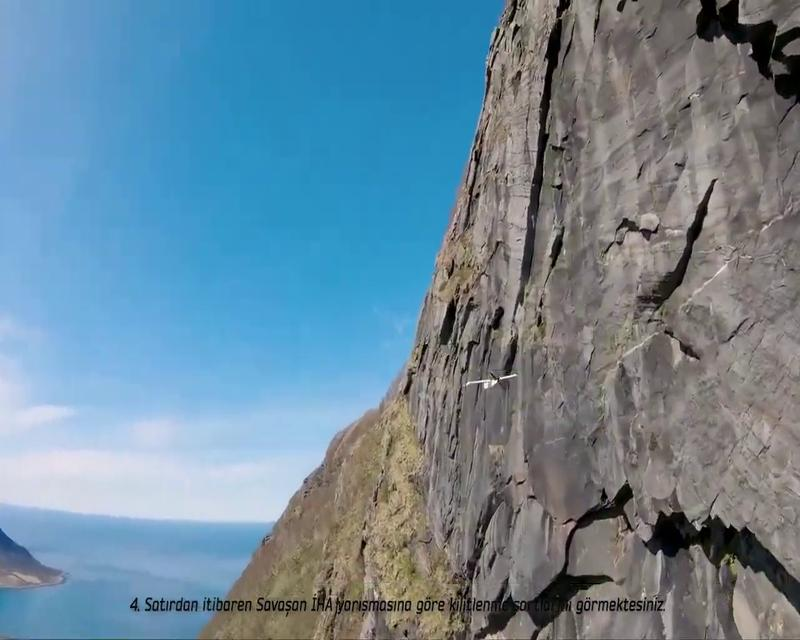UAV: (464, 373, 517, 391)
